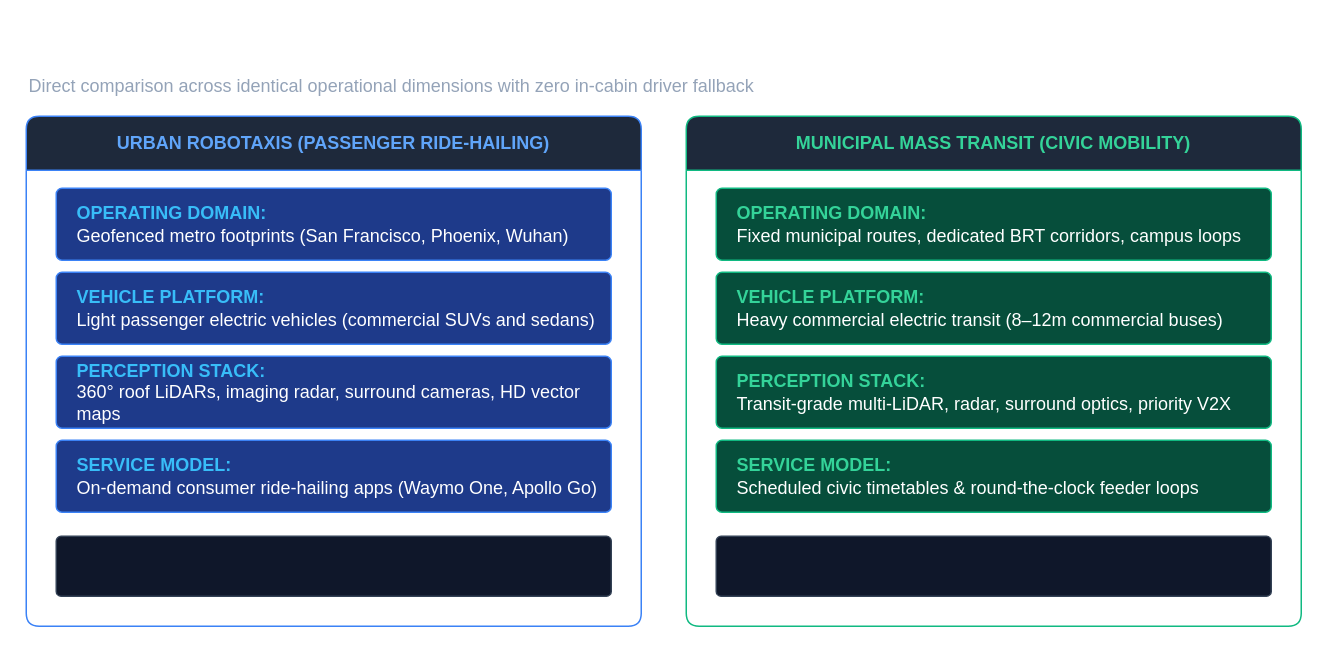
The diagram is 1328 pixels wide and 653 high, and some of its shapes have lost their labels. The shapes that lost their labels are listed below. From the top down, each one's box as (x1, y1, x2, y2) in pixels, then its label:
(55, 535, 611, 596): BENCHMARK FLEETS: Waymo One (Jaguar I-PACE) · Baidu Apollo RT6
(715, 535, 1271, 596): BENCHMARK FLEETS: ADASTEC flowride.ai on Karsan Autonomous e-ATAK
